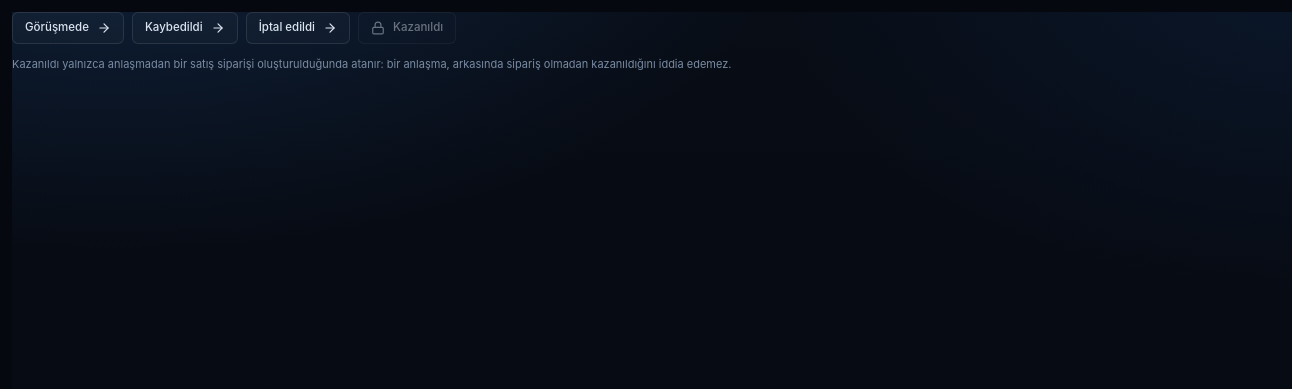
status transitions in Turkish › offers the allowed moves in Turkish and requires a reason in Turkish
Check: the button "Görüşmede" is shown, box [12, 12, 124, 44]
Check: the button "Kazanıldı" is disabled, box [358, 12, 456, 44]
Click the button "Kaybedildi" at (185, 28), box [132, 12, 238, 44]
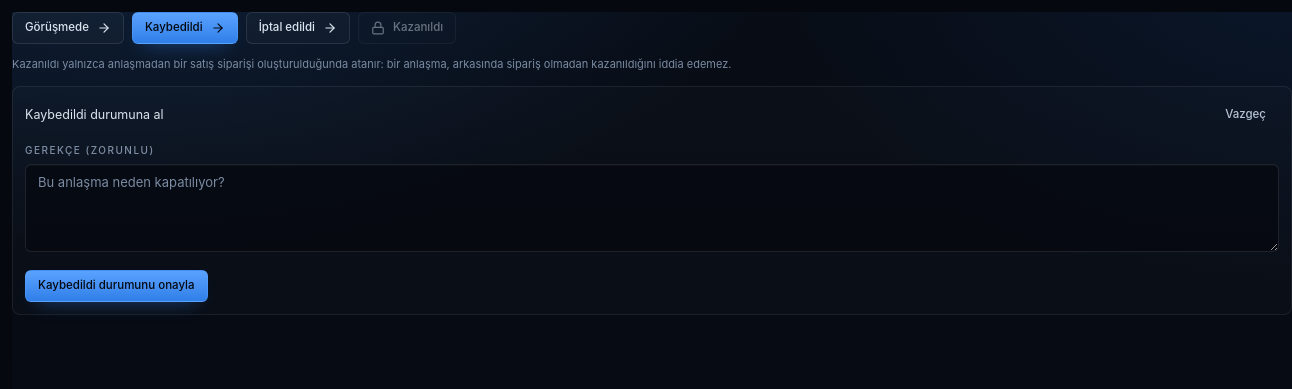
Click the button "Kaybedildi durumunu onayla" at (116, 286), box [25, 270, 208, 302]
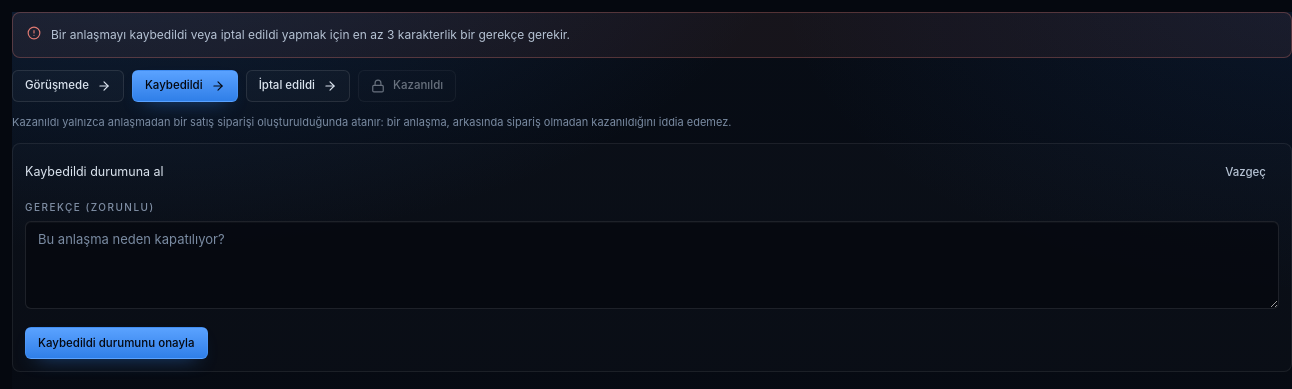
Check: the text "en az 3 karakterlik bir gerekçe" is shown, box [51, 27, 570, 42]
